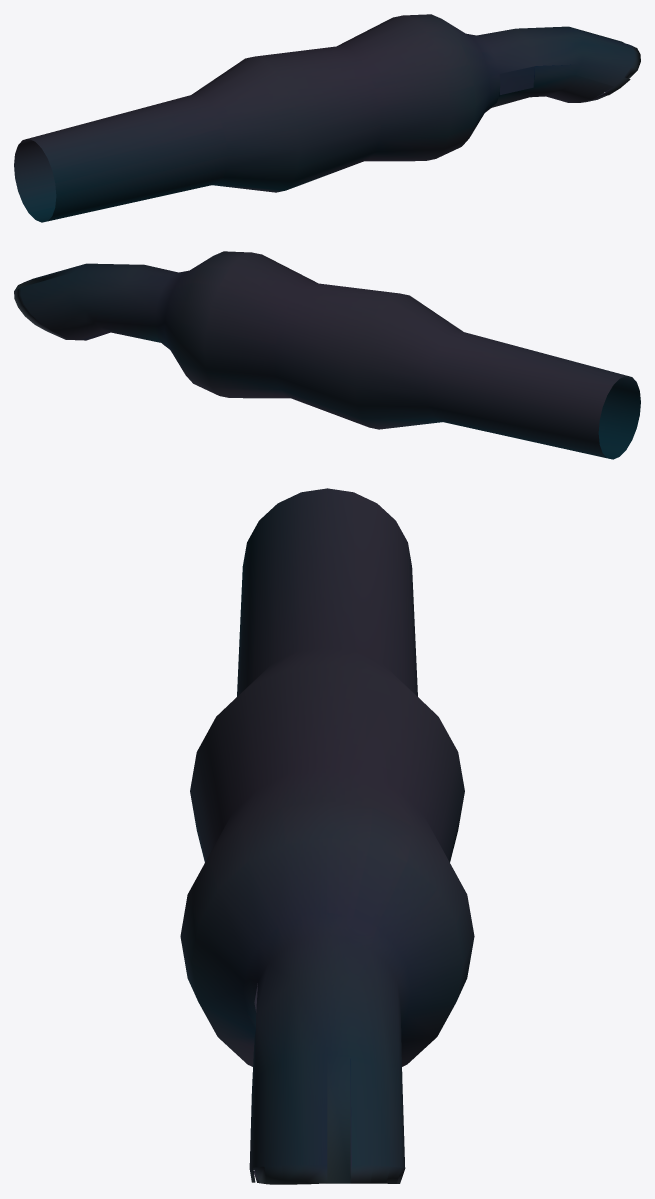
File: unsorted_04.glb
The picture shows the model from 3 angles, top to bottom: view 1: azimuth 30°, elevation 25°; view 2: azimuth 150°, elevation 25°; view 3: azimuth 270°, elevation 25°; orthographic projection. The views are drawn at different scales.
Parts seen in each view (by area): view 1: black_12; view 2: black_12; view 3: black_12.
Boxes of the visible parts, left/top/right/bottom form: black_12: left=14, top=14, right=640, bottom=222; black_12: left=14, top=251, right=640, bottom=459; black_12: left=180, top=488, right=474, bottom=1184.
Size of the model in its own units: 0.8648 by 0.1862 by 0.183.
